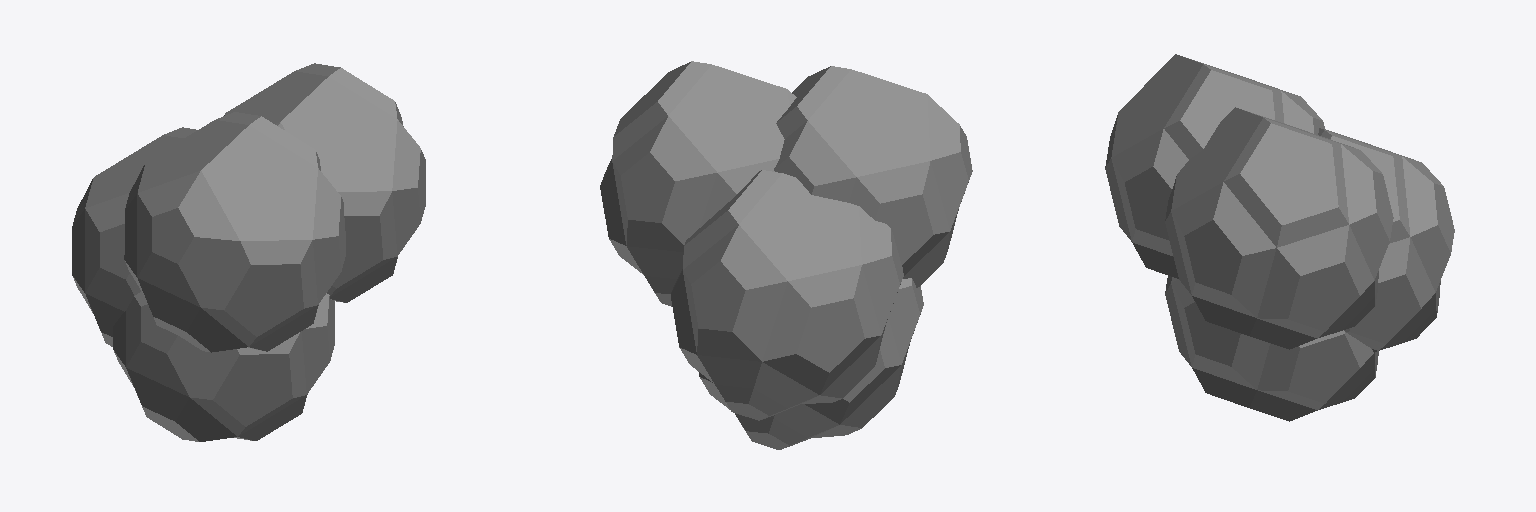
Rendered from rocks2.obj.
3 views of the same model, side by side, from view 1: azimuth 30°, elevation 25°; view 2: azimuth 150°, elevation 25°; view 3: azimuth 270°, elevation 25° (orthographic).
Parts seen in each view (by area): view 1: rocks003, rocks007, rocks004, rocks005; view 2: rocks005, rocks007, rocks003, rocks004; view 3: rocks007, rocks003, rocks004, rocks005.
Boxes of the visible parts, box(x1,y1,x2,y2) form: rocks003: box(124, 112, 345, 352); rocks007: box(224, 63, 425, 302); rocks004: box(113, 291, 334, 441); rocks005: box(72, 127, 196, 346); rocks005: box(671, 170, 903, 420); rocks007: box(600, 61, 796, 306); rocks003: box(774, 66, 972, 287); rocks004: box(699, 278, 923, 449); rocks007: box(1165, 107, 1393, 349); rocks003: box(1105, 54, 1324, 278); rocks004: box(1165, 276, 1378, 421); rocks005: box(1318, 128, 1454, 352).
Size of the model in its own units: 17.65 by 19.02 by 17.52.